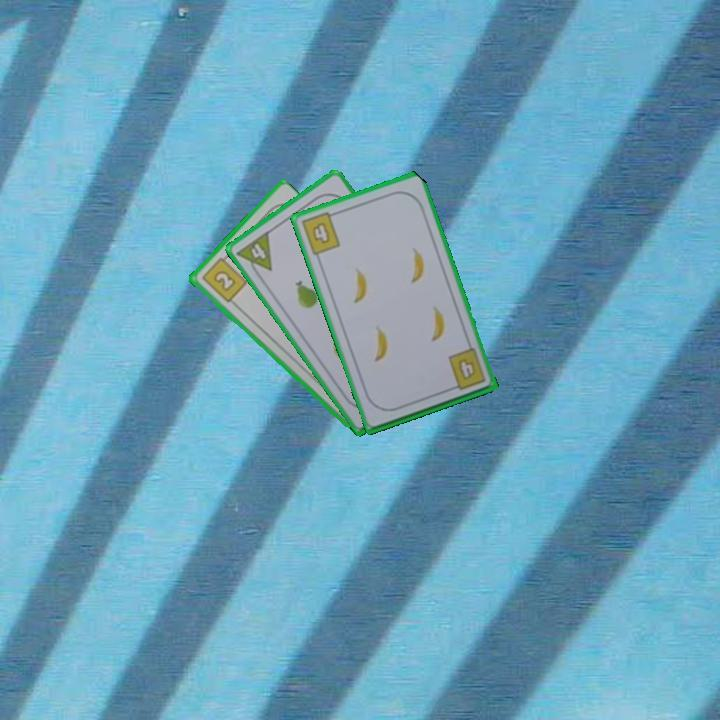2b: (198, 251, 249, 306)
4b: (297, 208, 343, 258), (456, 354, 476, 381)
4p: (233, 227, 275, 281)
